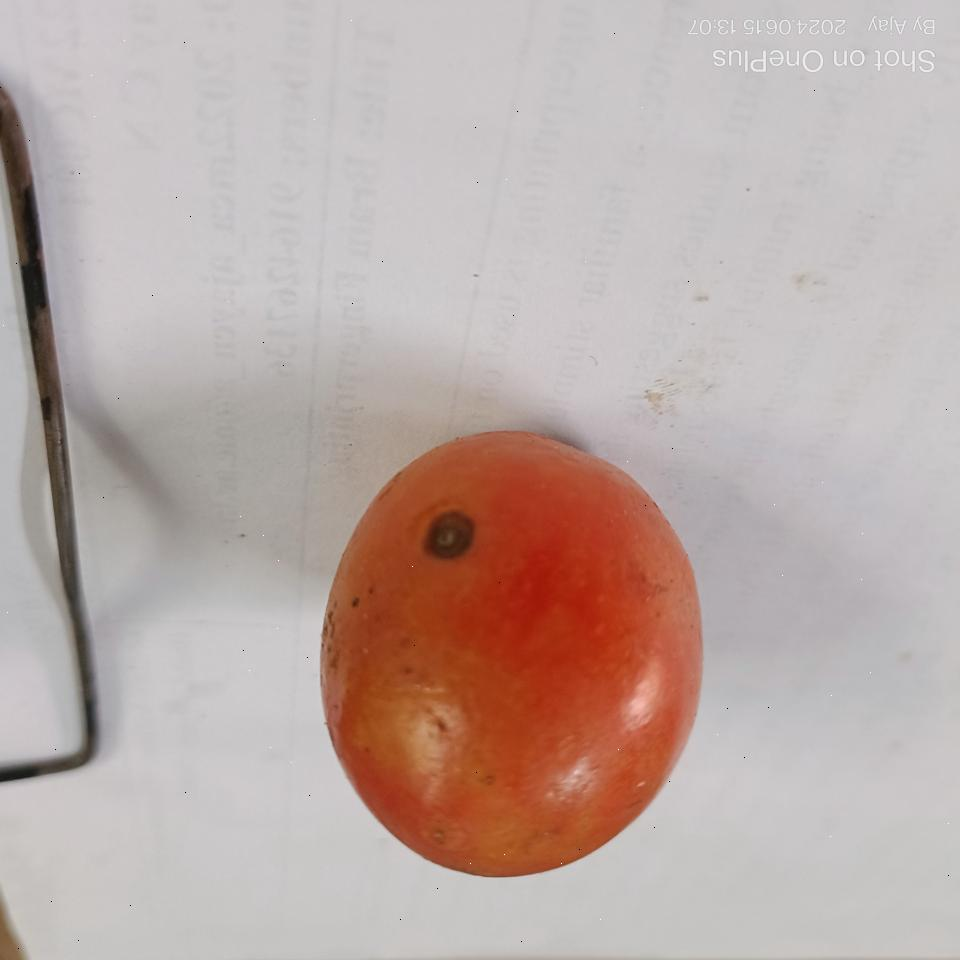Bacterial_Spot: (416, 513, 482, 562)
